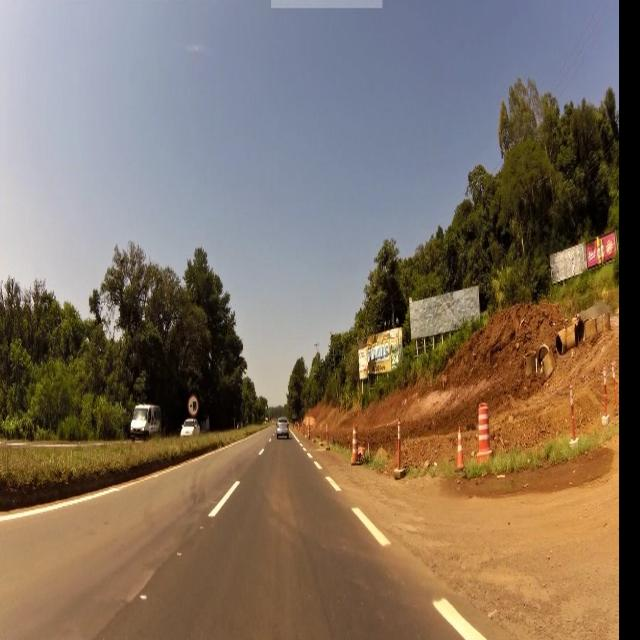R-27: (188, 393, 199, 419)
